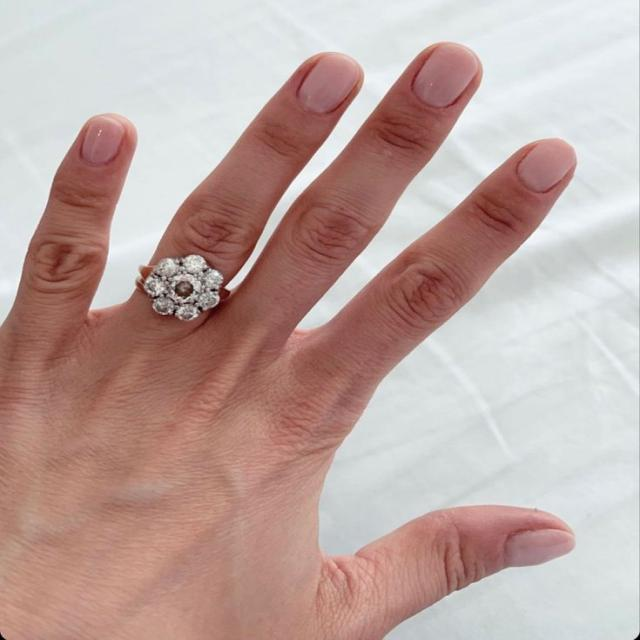Fingernail: (414, 44, 476, 107), (299, 55, 357, 113), (519, 141, 575, 192), (506, 530, 573, 567), (82, 116, 123, 166)
